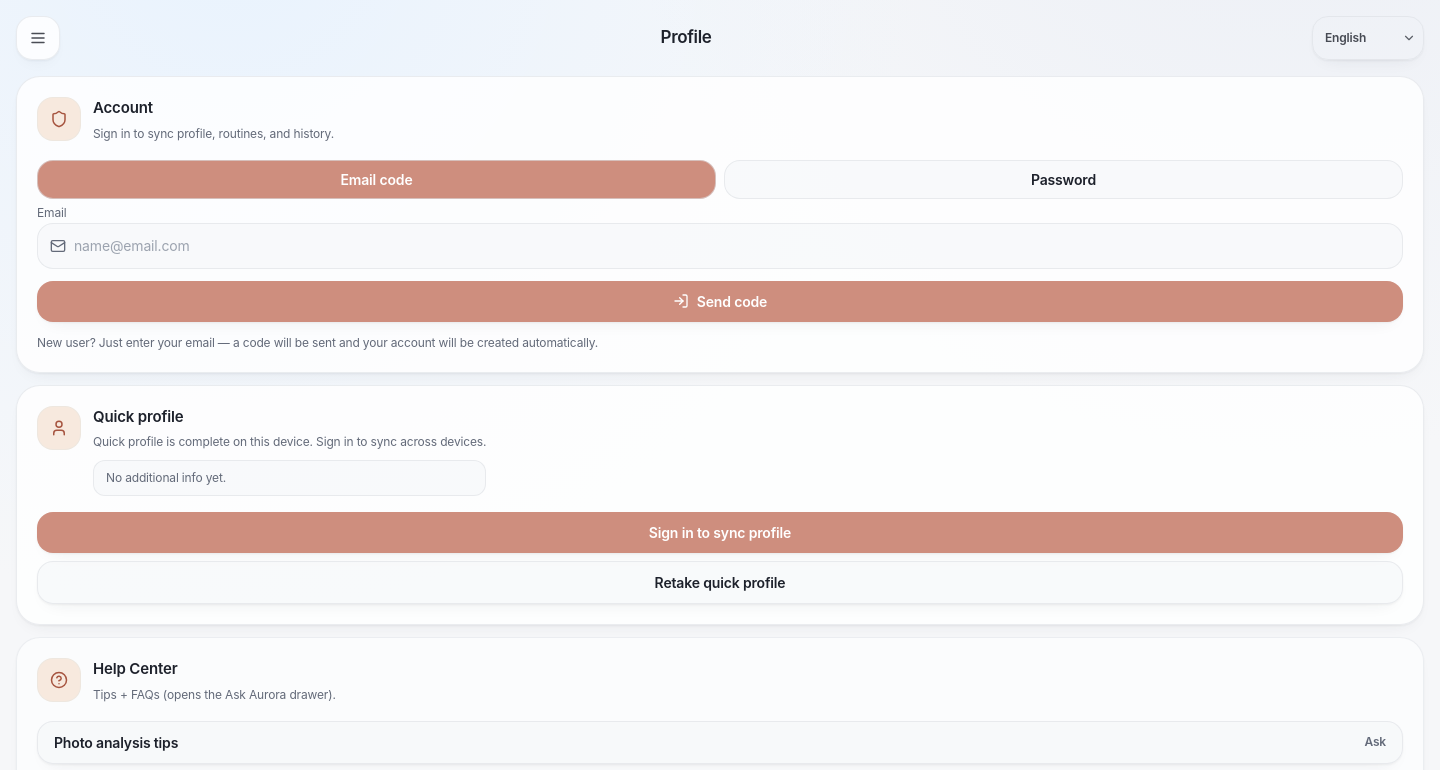
Test: Profile quick profile status › shows complete_guest state with sync CTA
Click the button "Sign in to sync profile" at (720, 532), box [37, 512, 1403, 553]
(page scrolled)
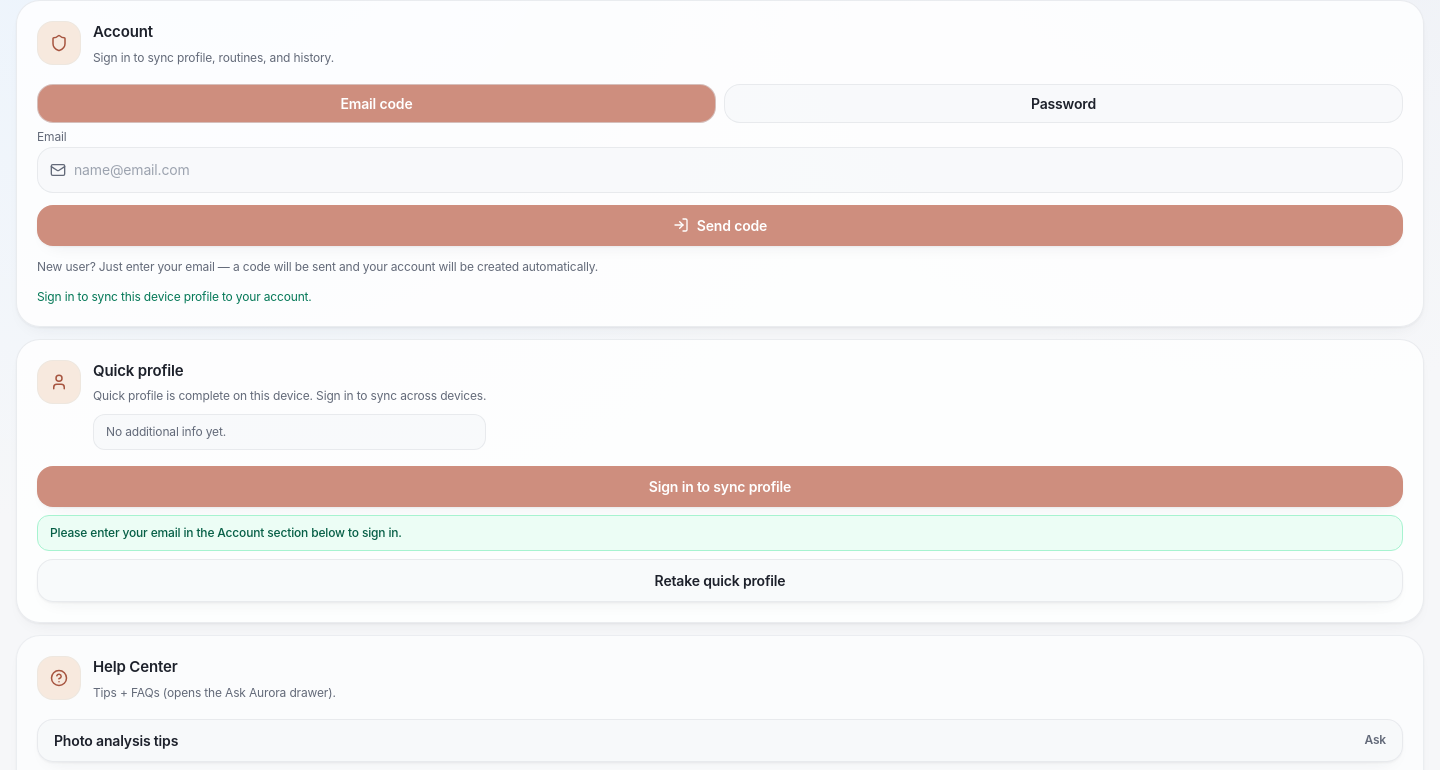
Now the text "Sign in to sync this device profile to your account." is shown, box [37, 288, 312, 304]
